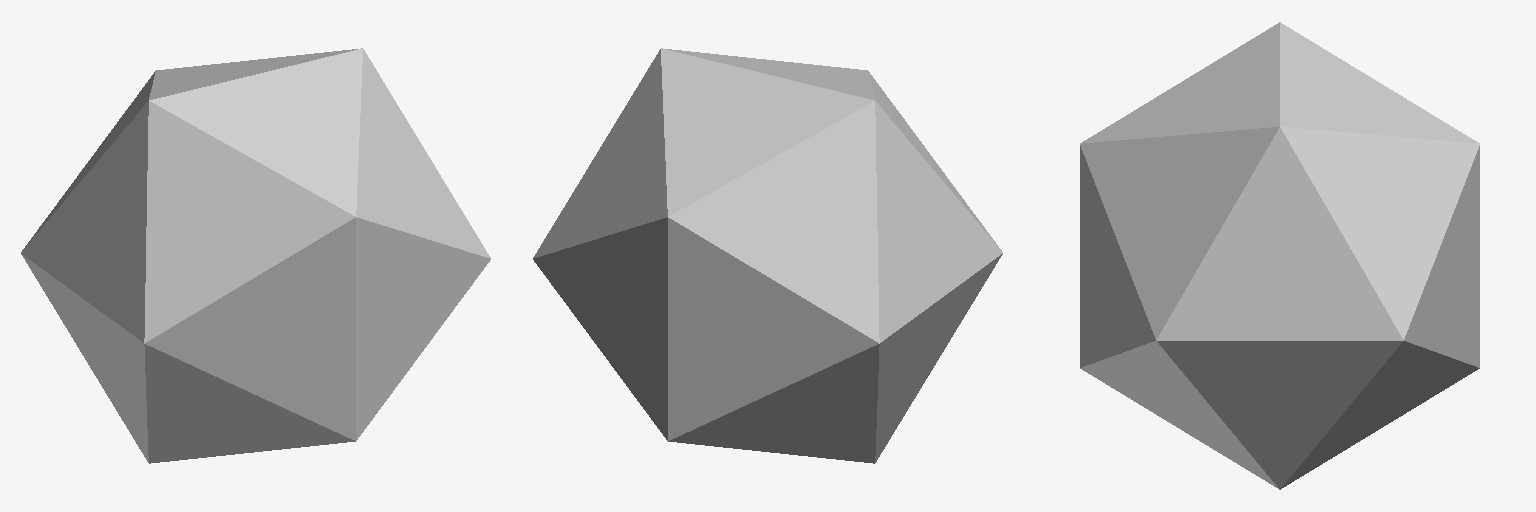
File: d-twenty.obj
3 views of the same model, side by side, from view 1: azimuth 30°, elevation 25°; view 2: azimuth 150°, elevation 25°; view 3: azimuth 270°, elevation 25° (orthographic).
Parts seen in each view (by area): view 1: Icosahedron; view 2: Icosahedron; view 3: Icosahedron.
Part boxes in pixels (x1,y1,x2,y2): Icosahedron: (21,48,490,463); Icosahedron: (533,48,1002,463); Icosahedron: (1080,22,1479,489).
Bounding box in the file's own units: 17.01 × 17.01 × 17.01.